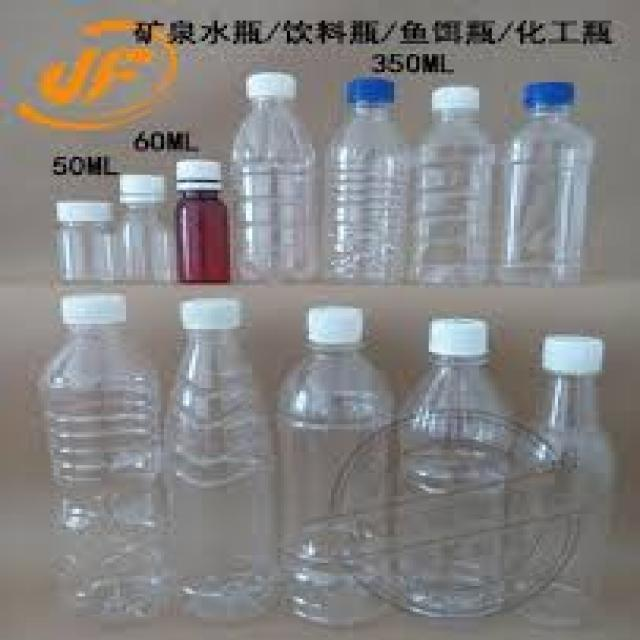Plastic: (41, 292, 174, 624), (264, 304, 396, 626), (158, 294, 271, 620), (397, 316, 509, 614), (509, 336, 616, 624), (492, 80, 590, 288), (230, 71, 321, 283), (316, 76, 408, 283), (403, 86, 492, 286), (170, 155, 232, 284), (114, 170, 181, 286), (50, 198, 124, 286)
